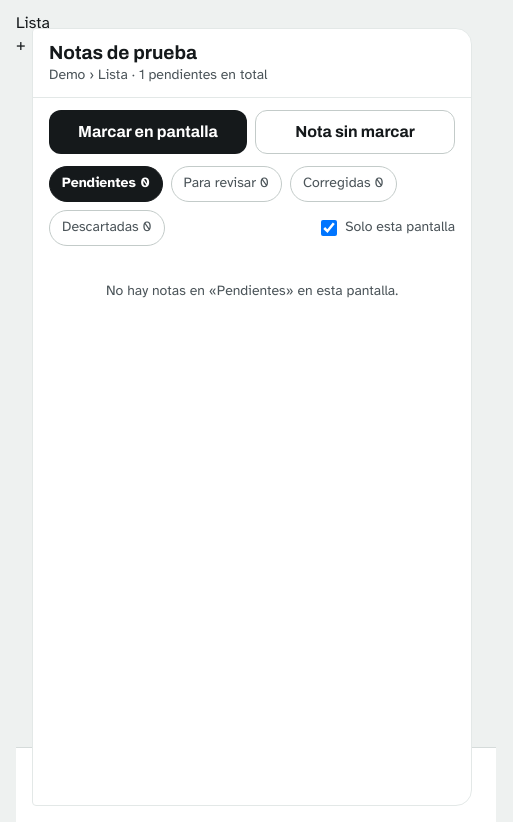
Scenario: TestNotes (desktop: panel lateral fuera de la app) › "Ir a la nota" deja el panel visible
Click the checkbox labelled "Solo esta pantalla": (329, 228) [321,220,337,236]
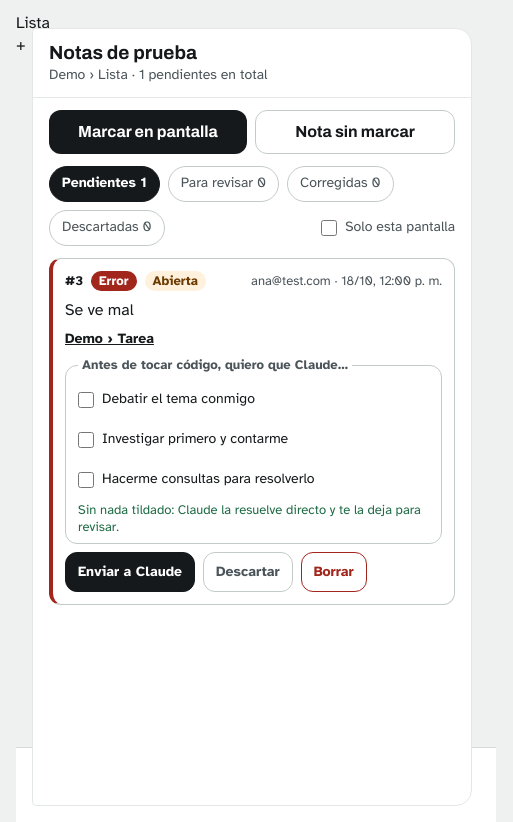
Click the button "Demo › Tarea": (109, 339) [65,330,154,349]
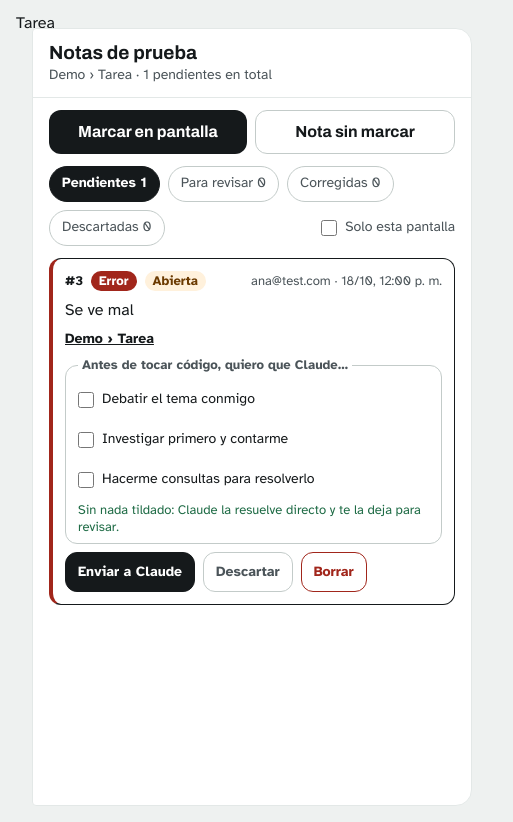
Result: the heading "Tarea" is shown at [16,13,55,33]
